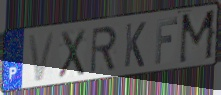F: (154, 16, 179, 67)
K: (123, 20, 148, 70)
M: (177, 8, 218, 67)
R: (89, 24, 119, 76)
V: (27, 30, 57, 84)
X: (56, 27, 87, 81)
